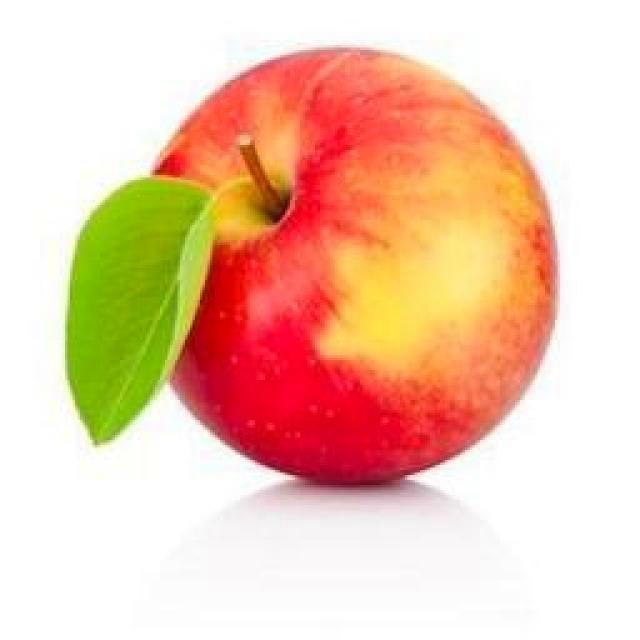Apple: (66, 48, 555, 483)
